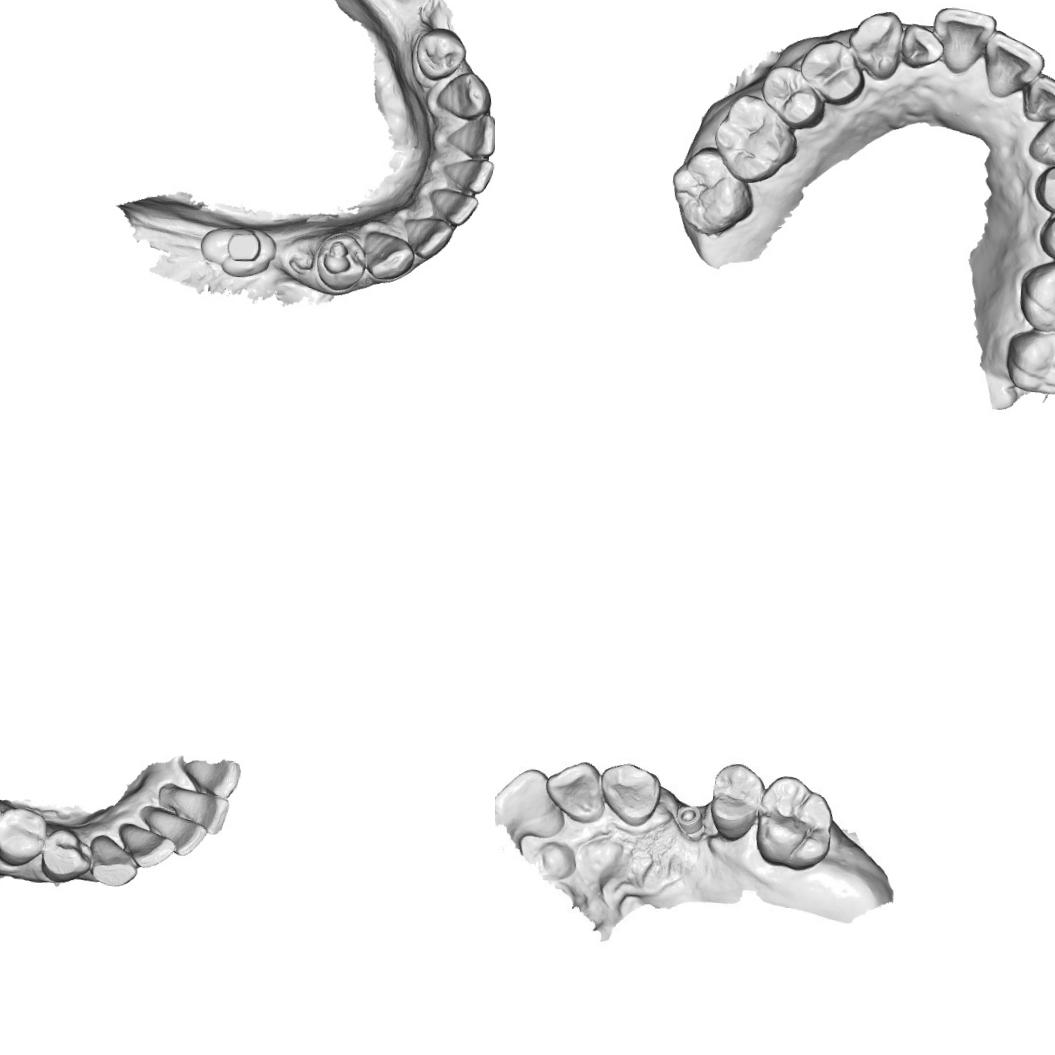canine: (596, 758, 663, 829), (844, 7, 906, 82), (432, 69, 494, 122), (86, 832, 140, 888), (361, 228, 415, 282), (1025, 105, 1055, 168)
implant: (672, 801, 705, 837)
incisor: (495, 764, 568, 839), (979, 27, 1047, 101), (929, 4, 998, 76), (152, 778, 234, 837), (541, 757, 608, 825), (142, 807, 210, 858), (114, 820, 178, 870), (176, 759, 242, 800), (400, 213, 456, 260), (444, 109, 495, 160), (898, 20, 946, 72), (438, 154, 495, 195), (427, 185, 480, 227), (1019, 68, 1055, 124)
molar: (667, 142, 758, 240), (709, 90, 802, 185), (751, 772, 837, 872), (197, 222, 279, 280), (1001, 325, 1055, 397), (1015, 257, 1055, 336)
premolar: (796, 36, 870, 109), (706, 759, 766, 839), (758, 63, 828, 131), (410, 24, 469, 84), (312, 230, 368, 292), (0, 802, 51, 868), (40, 824, 94, 885), (1030, 158, 1055, 219), (1035, 210, 1055, 266)
